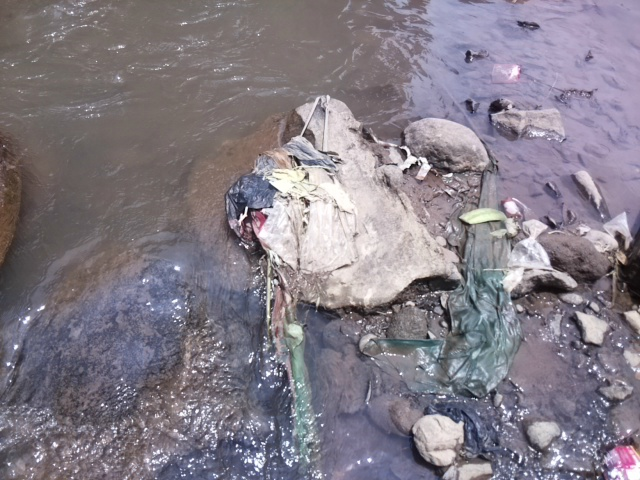Sampah_Plastik: (221, 159, 279, 242), (593, 444, 640, 480)
